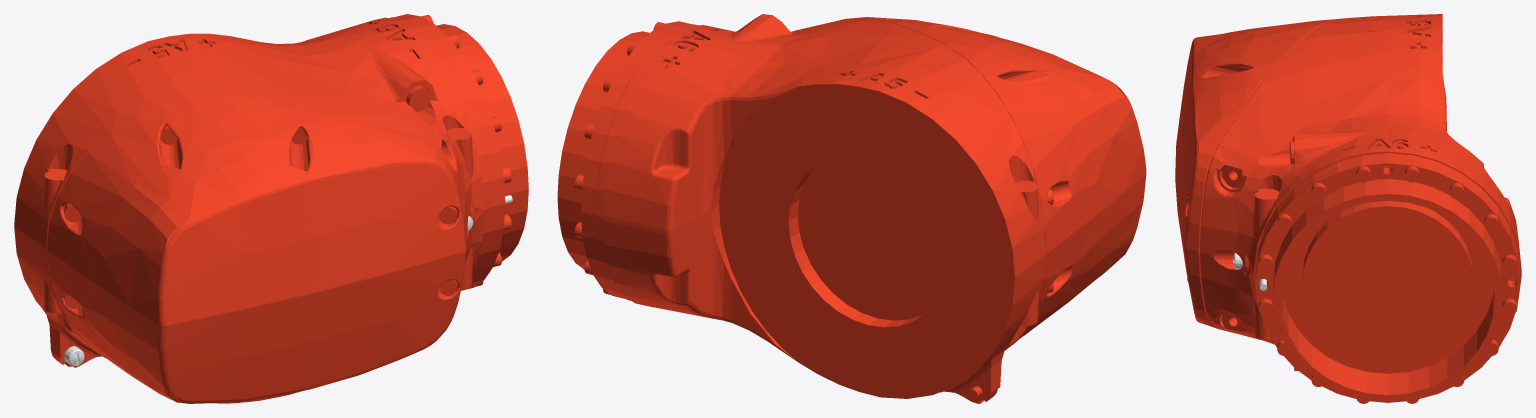
3 renders of one model, left to right at view 1: azimuth 30°, elevation 25°; view 2: azimuth 150°, elevation 25°; view 3: azimuth 270°, elevation 25°, orthographic. The views are drawn at different scales.
Visible parts, largest first — view 1: link_5; view 2: link_5; view 3: link_5.
Boxes of the visible parts, left/top/right/bottom form: link_5: left=14, top=14, right=528, bottom=403; link_5: left=557, top=14, right=1146, bottom=403; link_5: left=1175, top=14, right=1521, bottom=403.
Bounding box in the file's own units: 0.2662 × 0.2019 × 0.1835.
